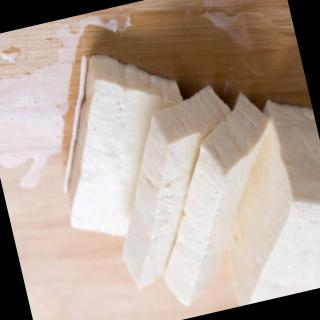Tahu: (57, 38, 270, 314), (218, 93, 320, 308)
